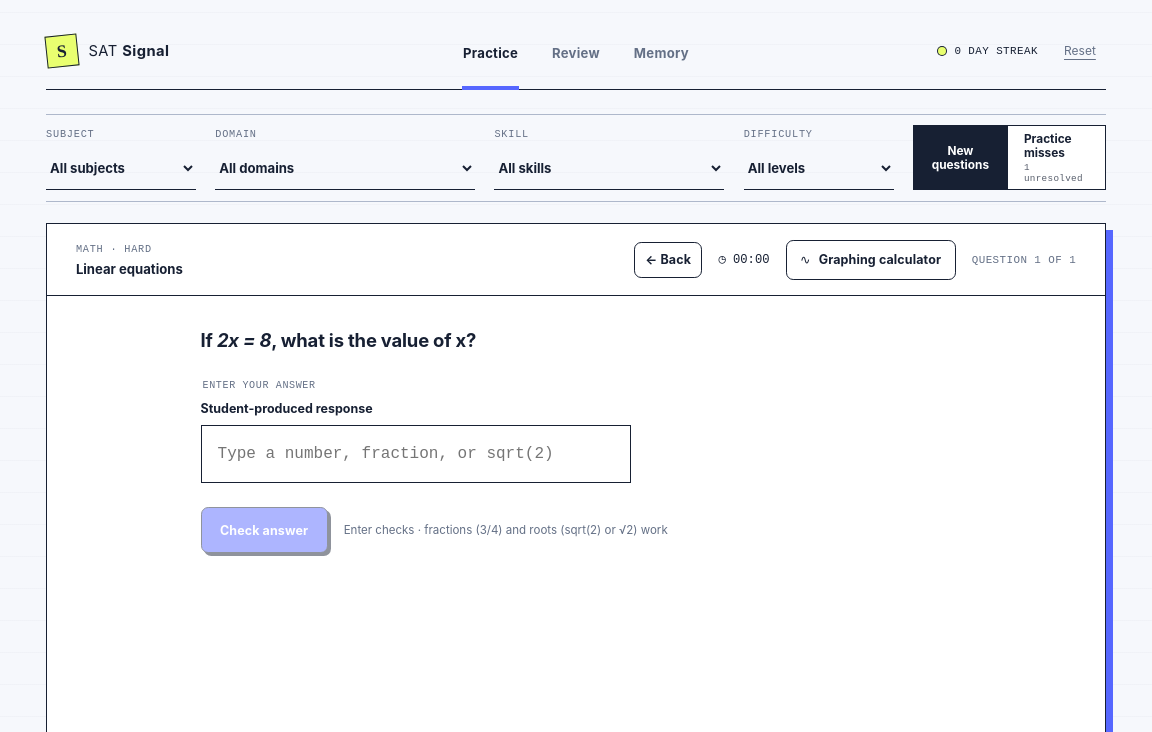
Test: SAT practice app › can open a past question saved before this page load
Expected: the heading "If 2x = 8, what is the value of x?" is shown, x1=200 y1=329 x2=476 y2=351
Click the button "← Back" at (668,260), box x1=634 y1=242 x2=702 y2=278
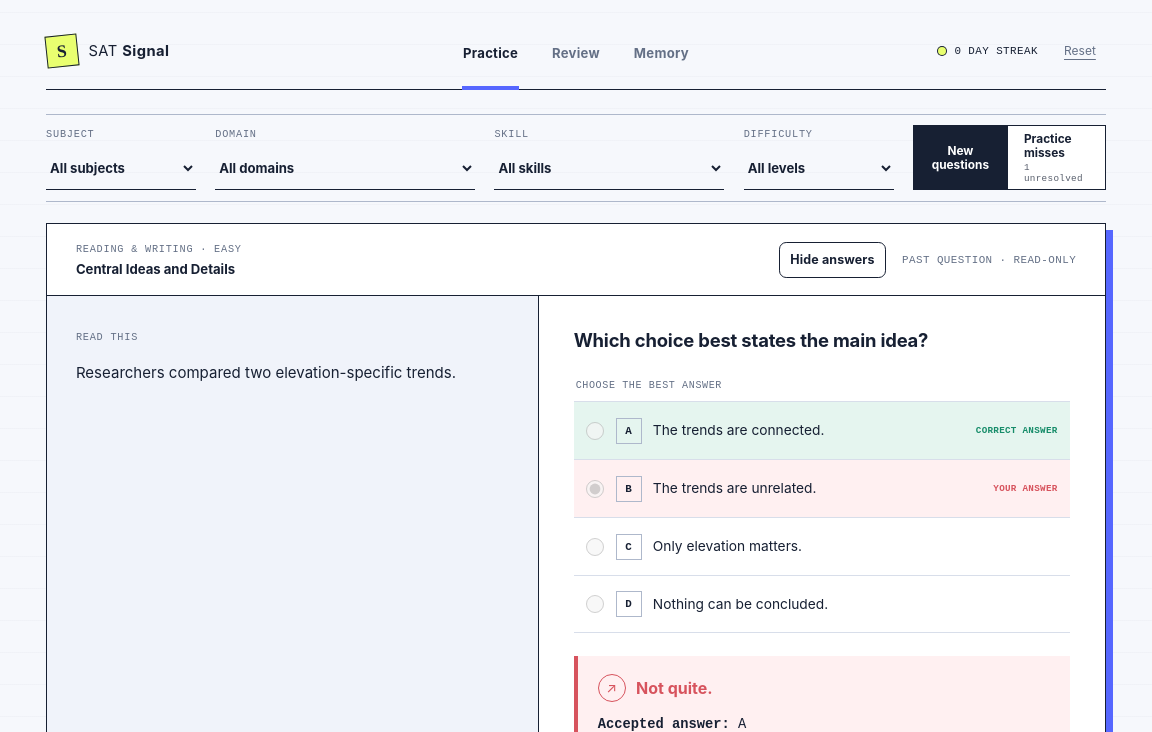
Expected: the heading "Which choice best states the main idea?" is shown, x1=574 y1=329 x2=928 y2=351
Expected: the radio button labelled "B The trends are unrelated. Your answer" is checked, x1=586 y1=480 x2=604 y2=498
Expected: the radio button labelled "B The trends are unrelated. Your answer" is disabled, x1=586 y1=480 x2=604 y2=498
